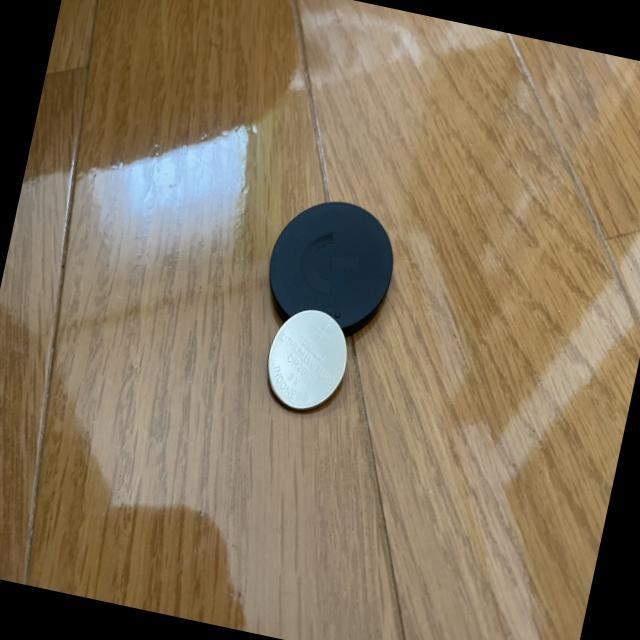COIN: (258, 302, 356, 418)
